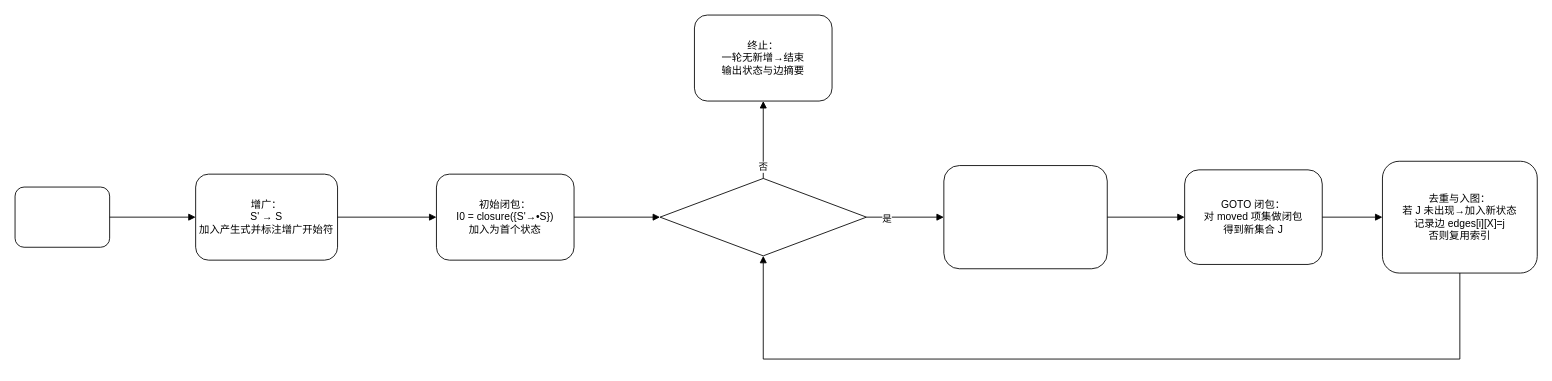
Some shapes in this 1552 by 381 pixel diagram are drawn without their labels. The shapes that lost their labels are listed below. From the top down, each one's centre as x and y in pixels, then its label:
point 62,216: 开始： 输入 Grammar
point 762,217: 判定： 是否新增状态？
point 1025,217: 枚举符号： 收集点后符号集 symbols 为每个 X 计算 gotoSet(Ii, X)
